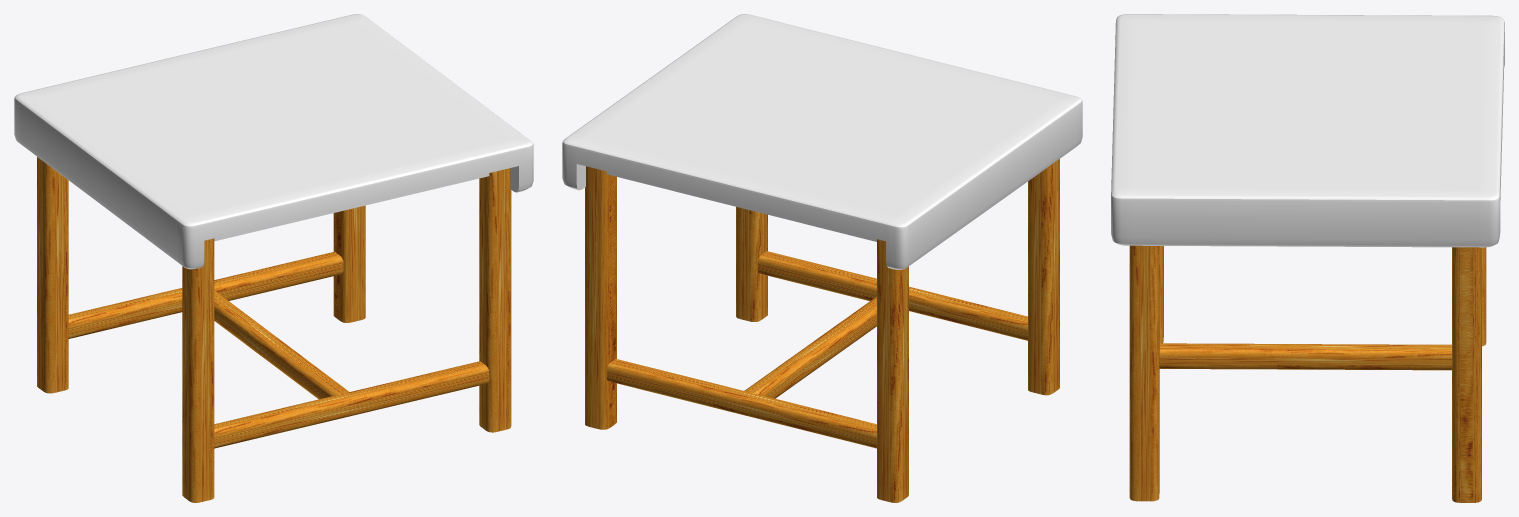
Rendered from Buro.obj.
3 views of the same model, side by side, from view 1: azimuth 30°, elevation 25°; view 2: azimuth 150°, elevation 25°; view 3: azimuth 270°, elevation 25° (orthographic). The views are drawn at different scales.
Visible parts, largest first — view 1: Cuarto:Buro:Table:Table:Box7560; view 2: Cuarto:Buro:Table:Table:Box7560; view 3: Cuarto:Buro:Table:Table:Box7560.
Boxes of the visible parts, box(x1,y1,x2,y2) form: Cuarto:Buro:Table:Table:Box7560: box(14, 14, 533, 502); Cuarto:Buro:Table:Table:Box7560: box(562, 14, 1082, 502); Cuarto:Buro:Table:Table:Box7560: box(1111, 14, 1504, 502).
Bounding box in the file's own units: 1.45 × 1.13 × 1.29.
2 materials, 2 textured.
